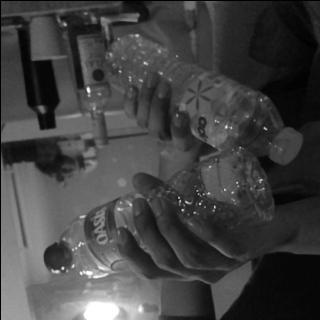plastic_bottles: (39, 145, 273, 277), (99, 32, 305, 166)
